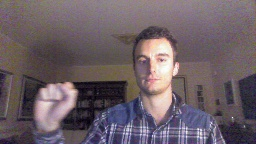Pugno: (28, 81, 79, 133)
